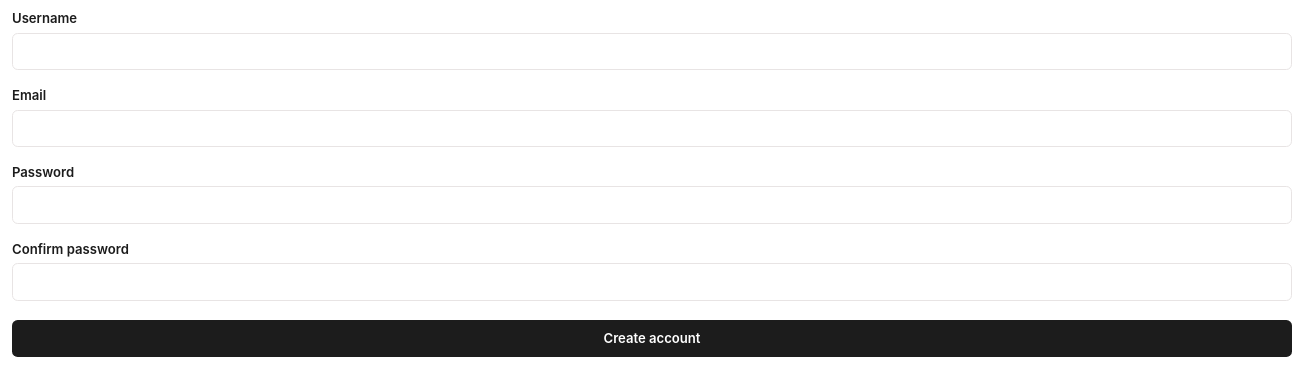
Test: RegisterForm › should tell the reader to check their email
In the field labelled "Username": coordinates (652, 51) [12,33,1292,70], type "user"
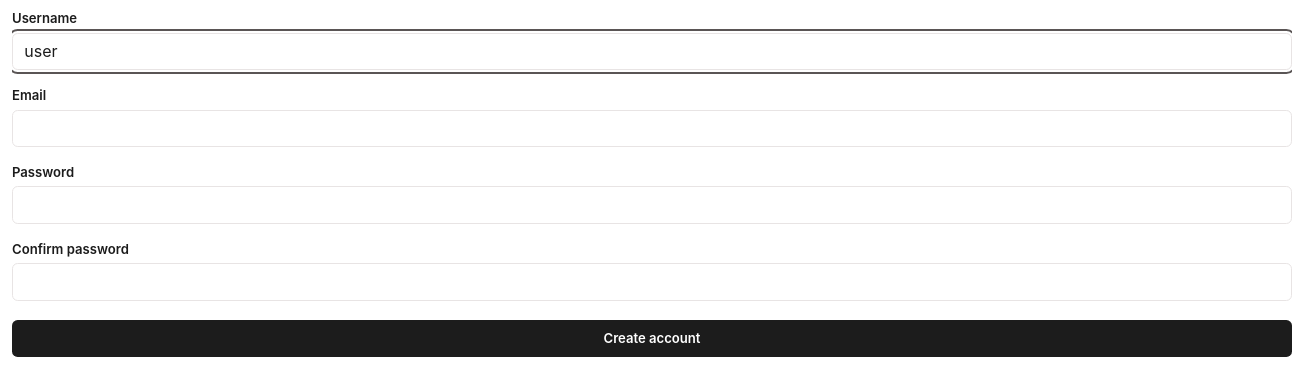
In the field labelled "Email": coordinates (652, 128) [12,110,1292,147], type "user@example.com"
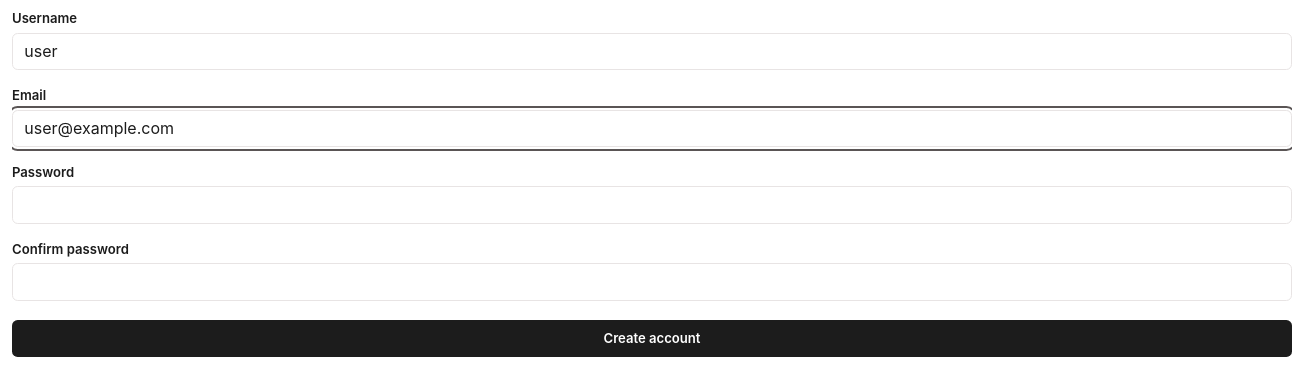
In the password field labelled "Password": coordinates (652, 205) [12,186,1292,224], type "secret-12"
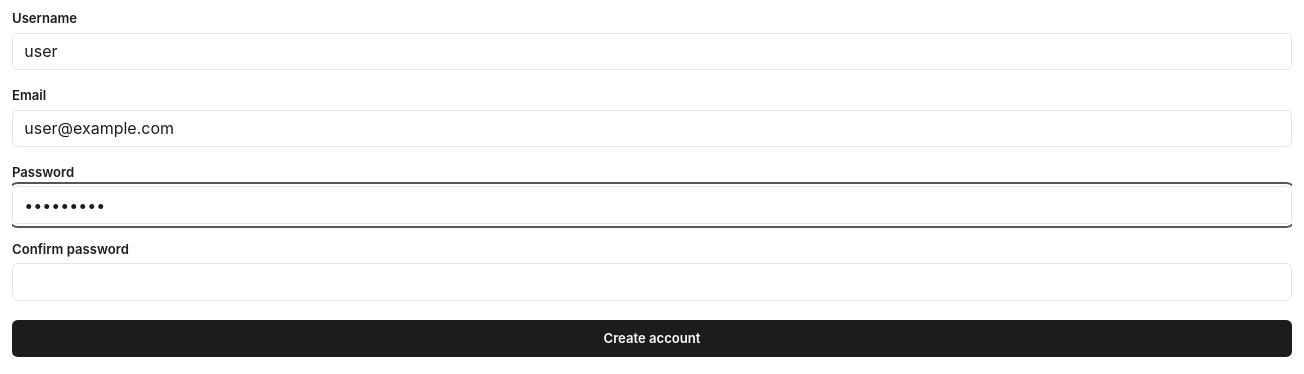
In the password field labelled "Confirm password": coordinates (652, 282) [12,263,1292,301], type "secret-12"
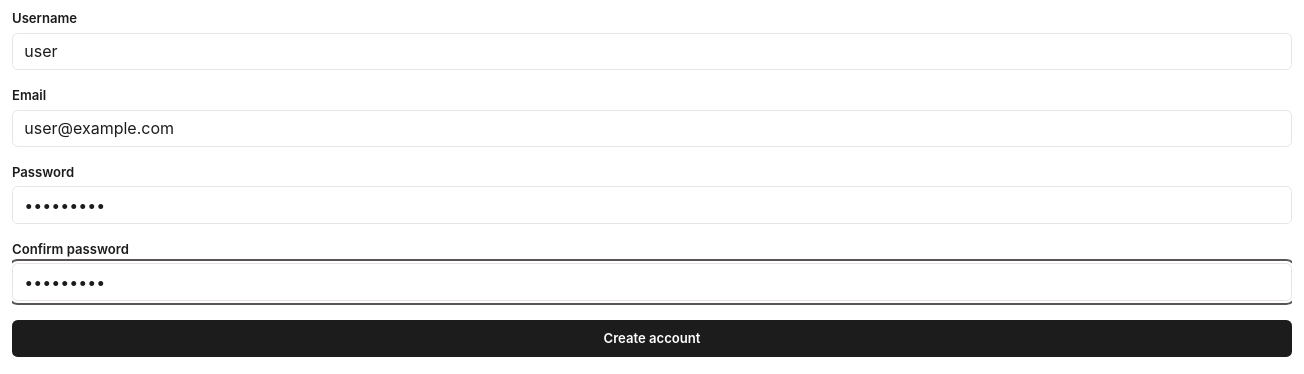
Click the button "Create account": coordinates (652, 338) [12,320,1292,357]
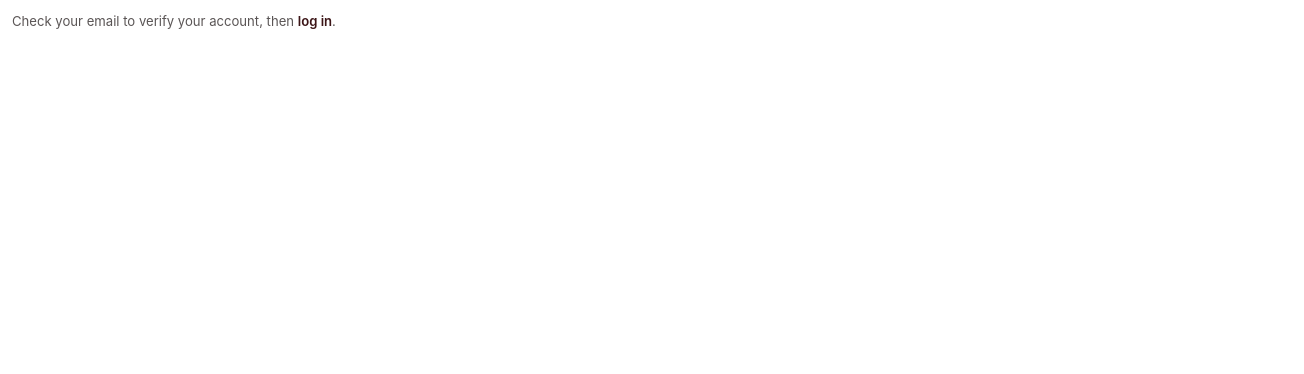
Expected: the message reads "Check your email to verify your account, then log in .", [12,13,336,29]
